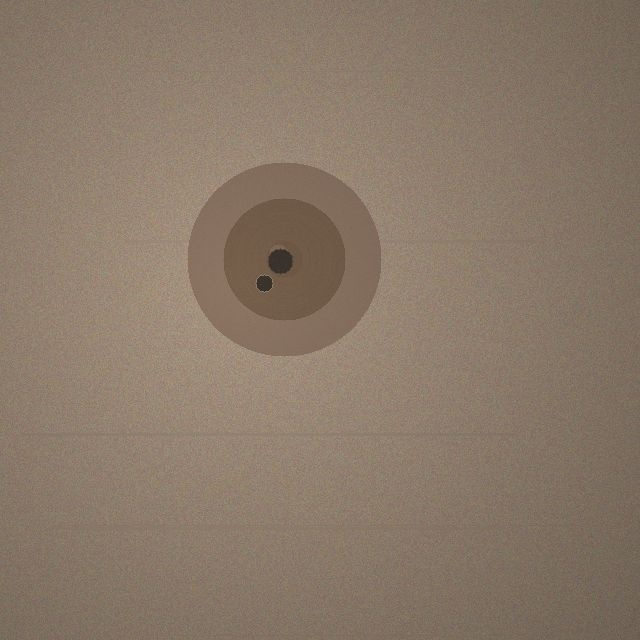shrinkage: (187, 162, 381, 356)
